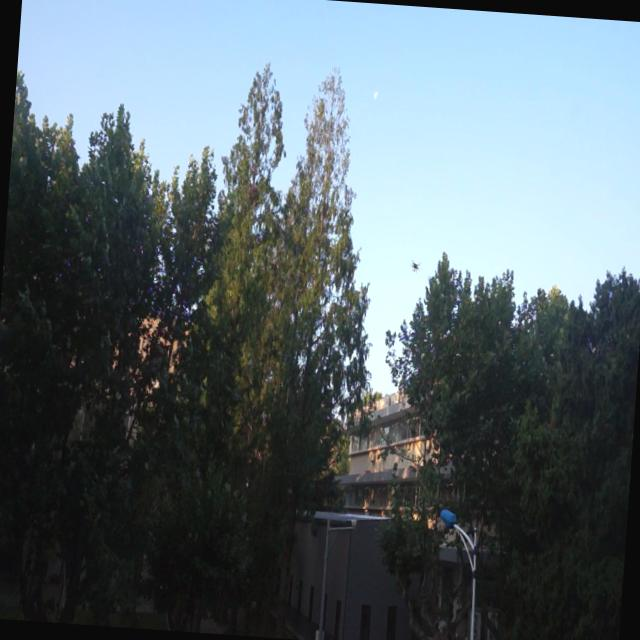drone: (408, 255, 422, 275)
